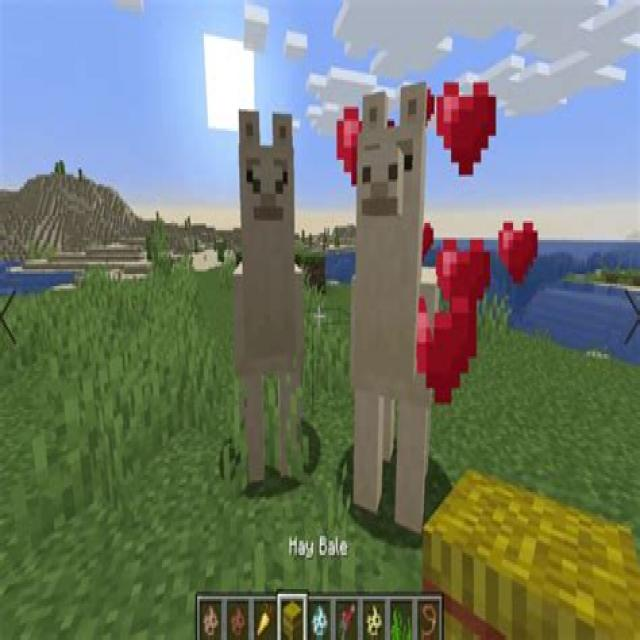Llama: (351, 65, 446, 548), (230, 104, 306, 492)
